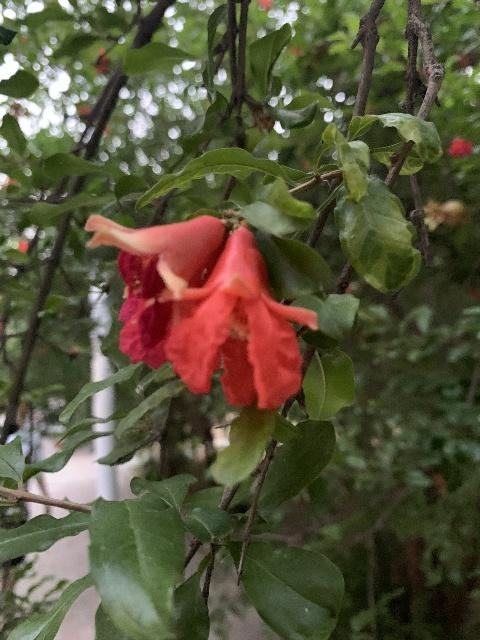early-fruit: (422, 198, 466, 230)
flower: (163, 227, 317, 410), (85, 213, 224, 369)
